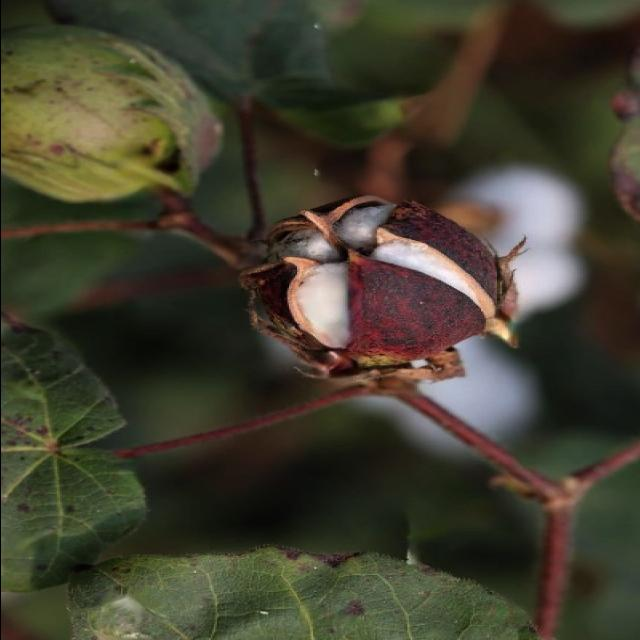Early Boll: (0, 16, 220, 210)
Split Cotton Boll: (238, 186, 518, 371)
